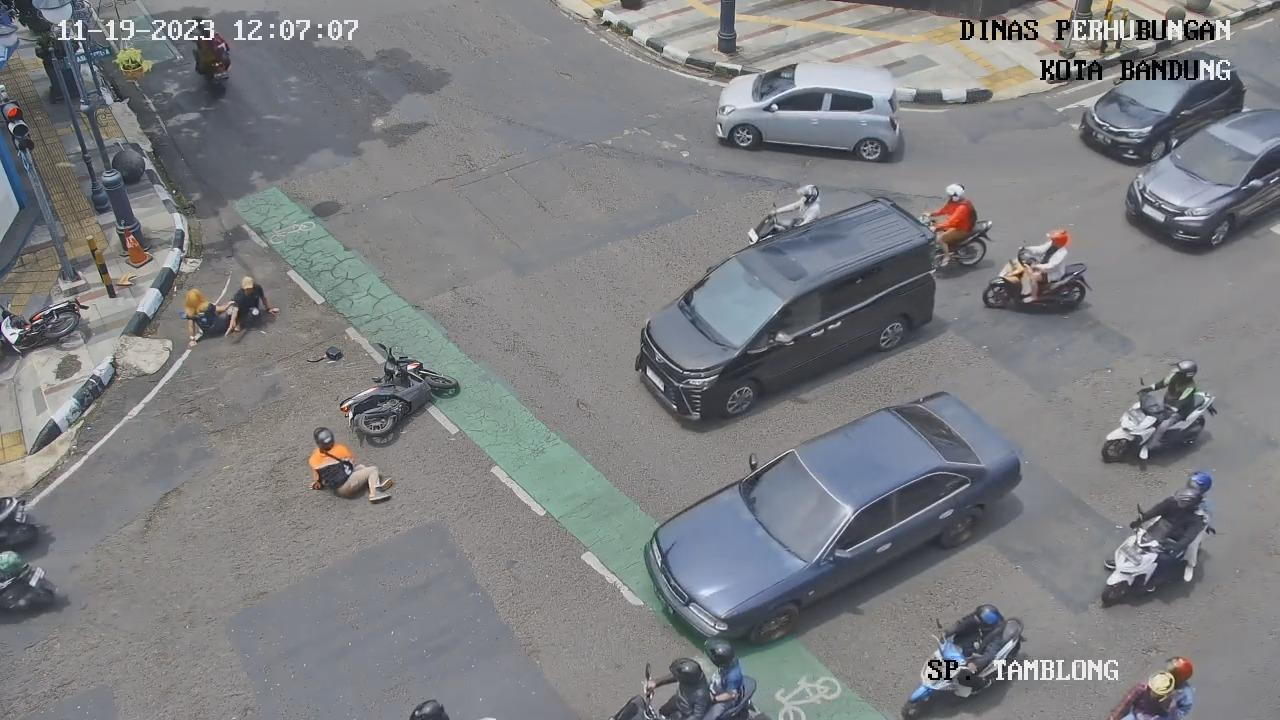accident: (300, 419, 395, 512), (176, 276, 238, 348), (227, 269, 282, 332)
